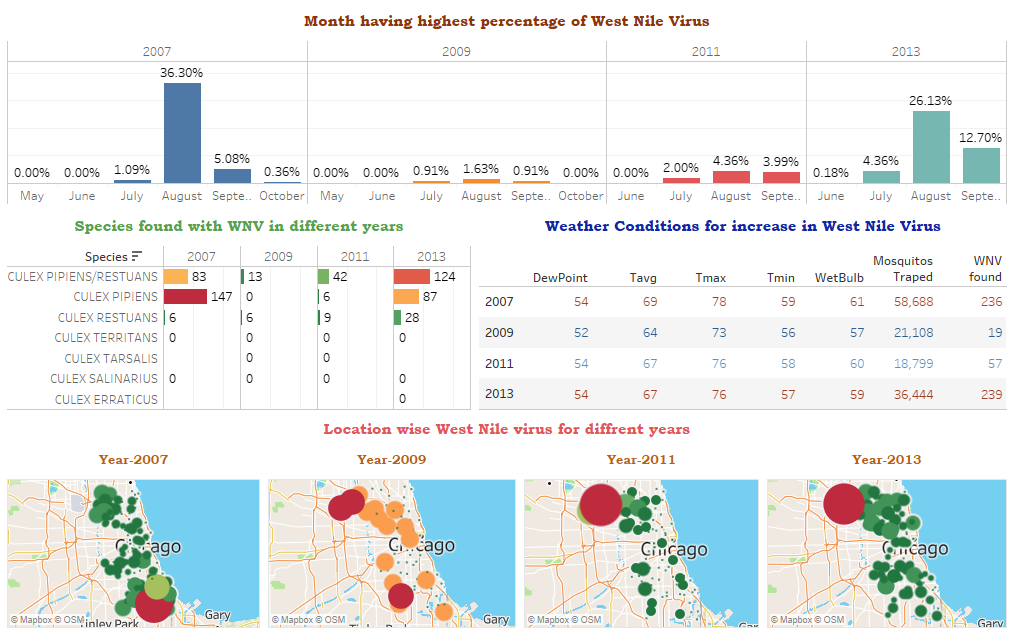

This screenshot's page, from the dashboard's own definition file:
{"tool":"tableau","page":{"name":"Dashboard 1","canvas":[1000,800],"ordinal":0},"visuals":[{"type":"worksheet","title":"Sheet 3","mark":"Bar","cols":["Date","Date"],"box":[8,8,984,256.5]},{"type":"worksheet","title":"Sheet 2","mark":"Automatic","rows":["Species"],"cols":["Date","WnvPresent"],"box":[8,264.5,460.7,255.4]},{"type":"worksheet","title":"Sheet 7","mark":"Automatic","rows":["Date"],"box":[468.7,264.5,523.3,255.4]},{"type":"text","box":[8,519.9,984,37.5]},{"type":"worksheet","title":"Sheet 1","mark":"Automatic","rows":["Latitude"],"cols":["Longitude"],"box":[8,557.4,254.8,234.6]},{"type":"worksheet","title":"Sheet 1 (2)","mark":"Automatic","rows":["Latitude"],"cols":["Longitude"],"box":[262.8,557.4,249.9,234.6]},{"type":"worksheet","title":"Sheet 1 (3)","mark":"Automatic","rows":["Latitude"],"cols":["Longitude"],"box":[512.7,557.4,237.2,234.6]},{"type":"worksheet","title":"Sheet 1 (4)","mark":"Automatic","rows":["Latitude"],"cols":["Longitude"],"box":[749.9,557.4,242.1,234.6]}]}

Visuals, with their boxes on the page's 1000x800 design canvas (x1, y1, x2, y2). These are canvas units, not pixel positions in the 1013x632 screenshot, which may show the page scaled, cropped or inside an application window:
"Sheet 3" worksheet (Bar marks): rect(8, 8, 992, 264)
"Sheet 2" worksheet: rect(8, 264, 469, 520)
"Sheet 7" worksheet: rect(469, 264, 992, 520)
text: rect(8, 520, 992, 557)
"Sheet 1" worksheet: rect(8, 557, 263, 792)
"Sheet 1 (2)" worksheet: rect(263, 557, 513, 792)
"Sheet 1 (3)" worksheet: rect(513, 557, 750, 792)
"Sheet 1 (4)" worksheet: rect(750, 557, 992, 792)
